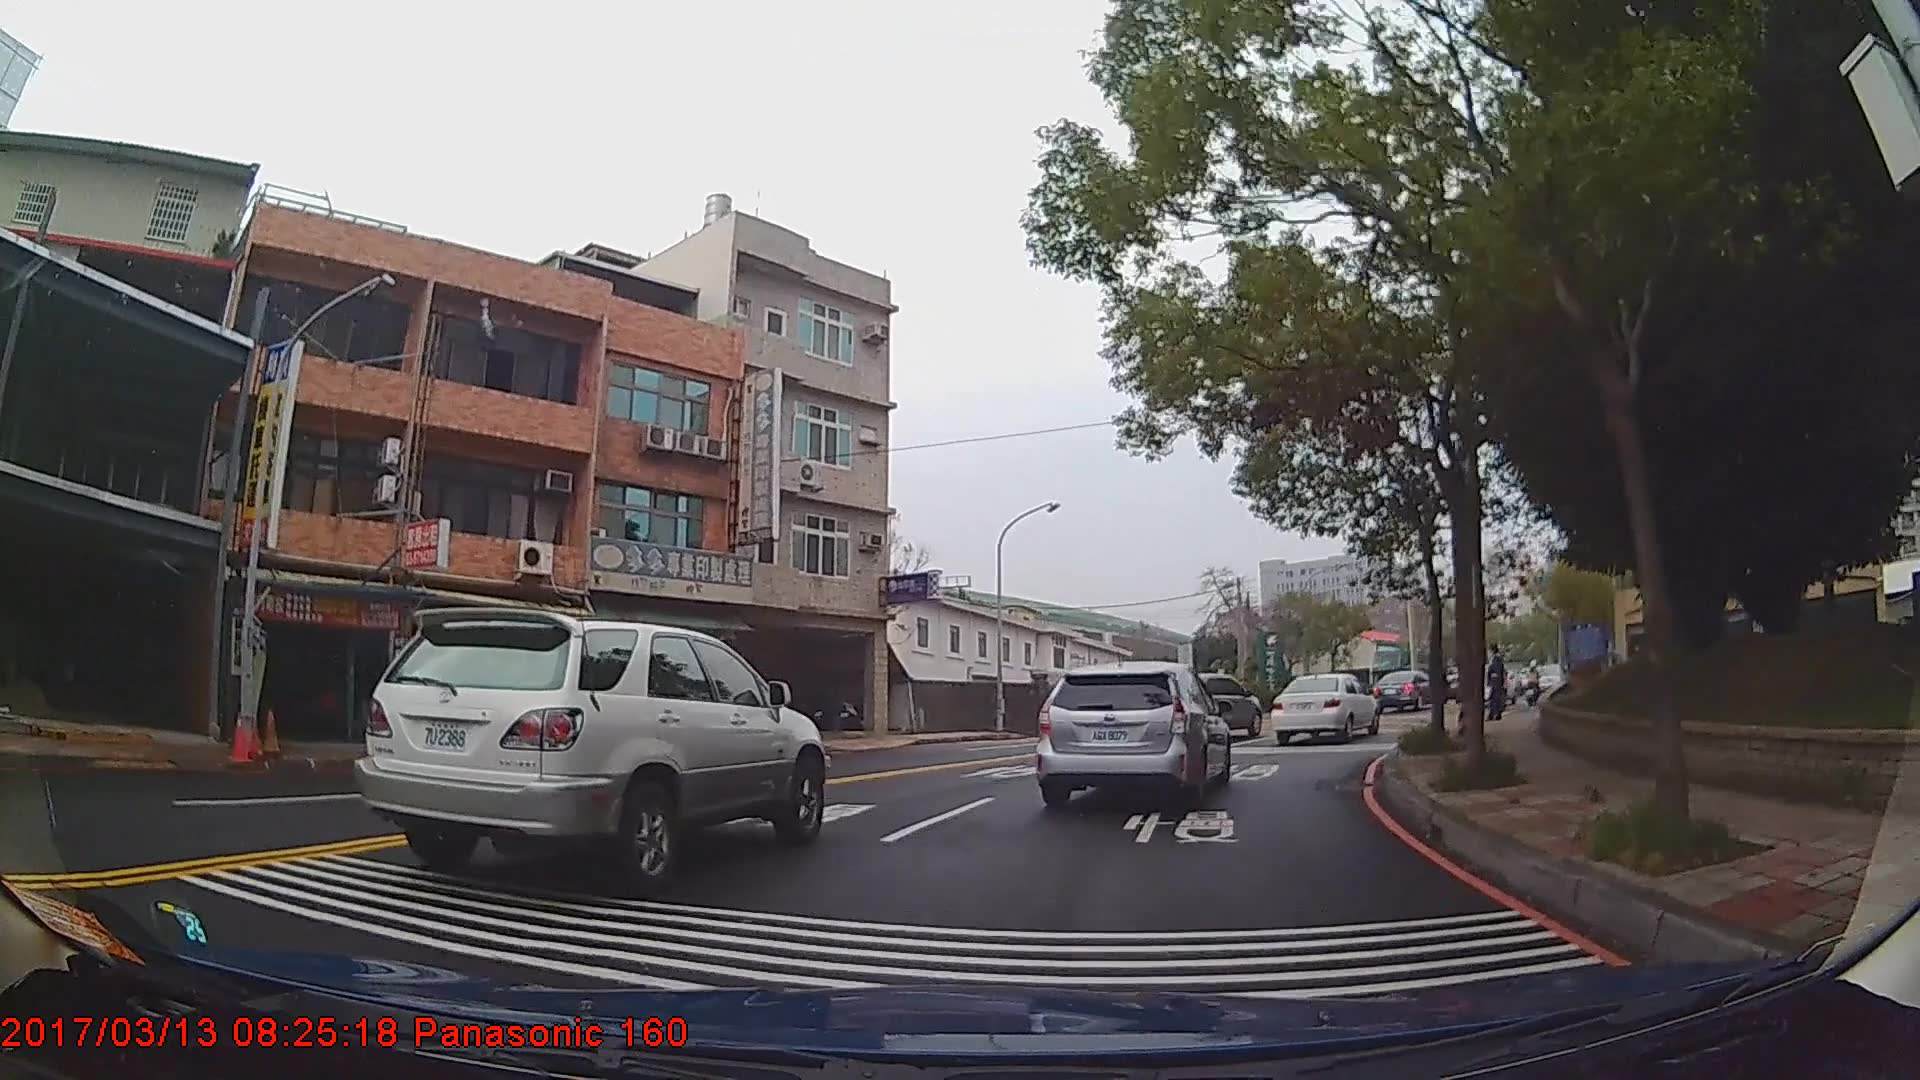vehicle: (353, 607, 825, 895), (1031, 659, 1229, 812), (1265, 671, 1375, 744), (1166, 673, 1261, 742), (1367, 667, 1436, 715)
